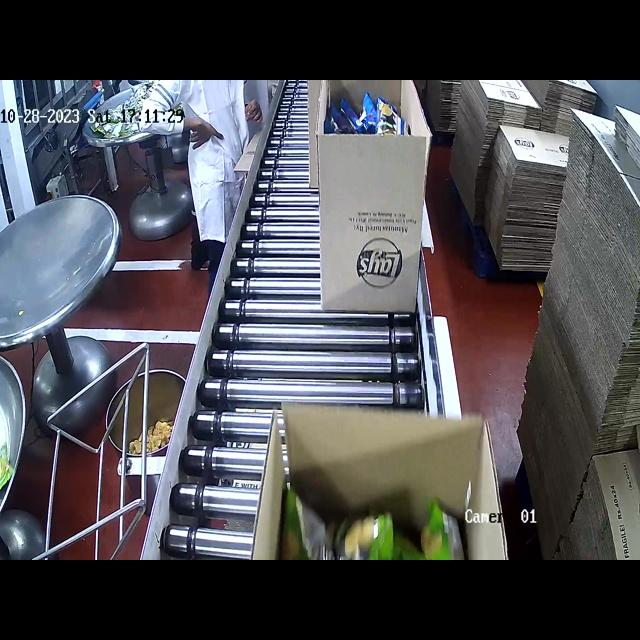paprika: (331, 99, 415, 134)
yogurt: (279, 477, 468, 560)
